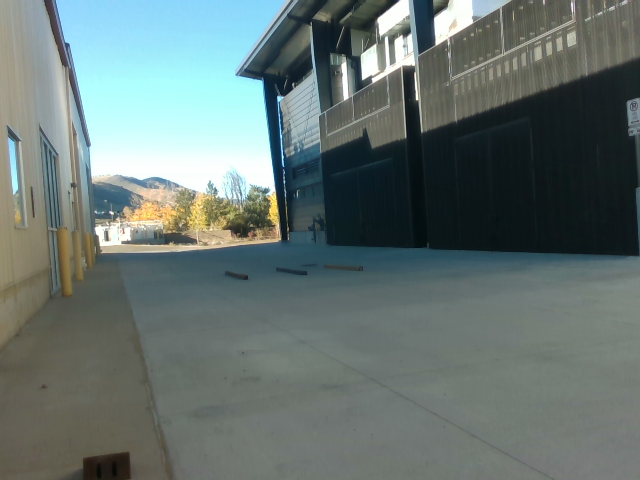Dunnage: (224, 257, 366, 291)
